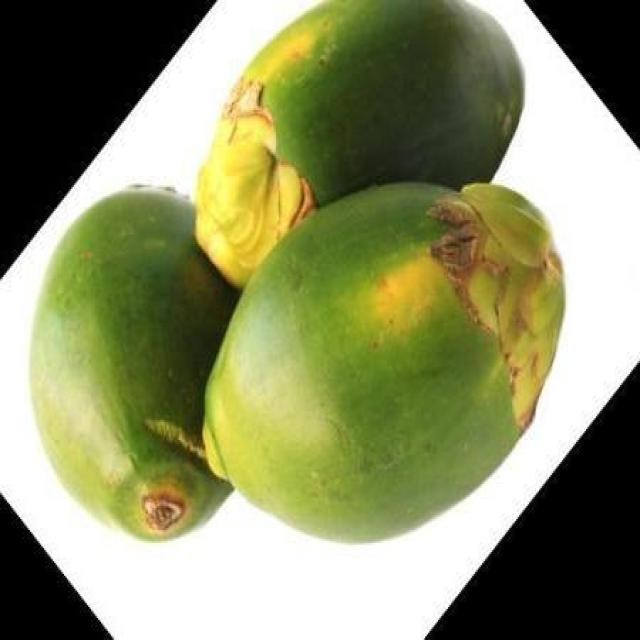good: (201, 182, 566, 548), (195, 0, 525, 292), (23, 183, 242, 548)
